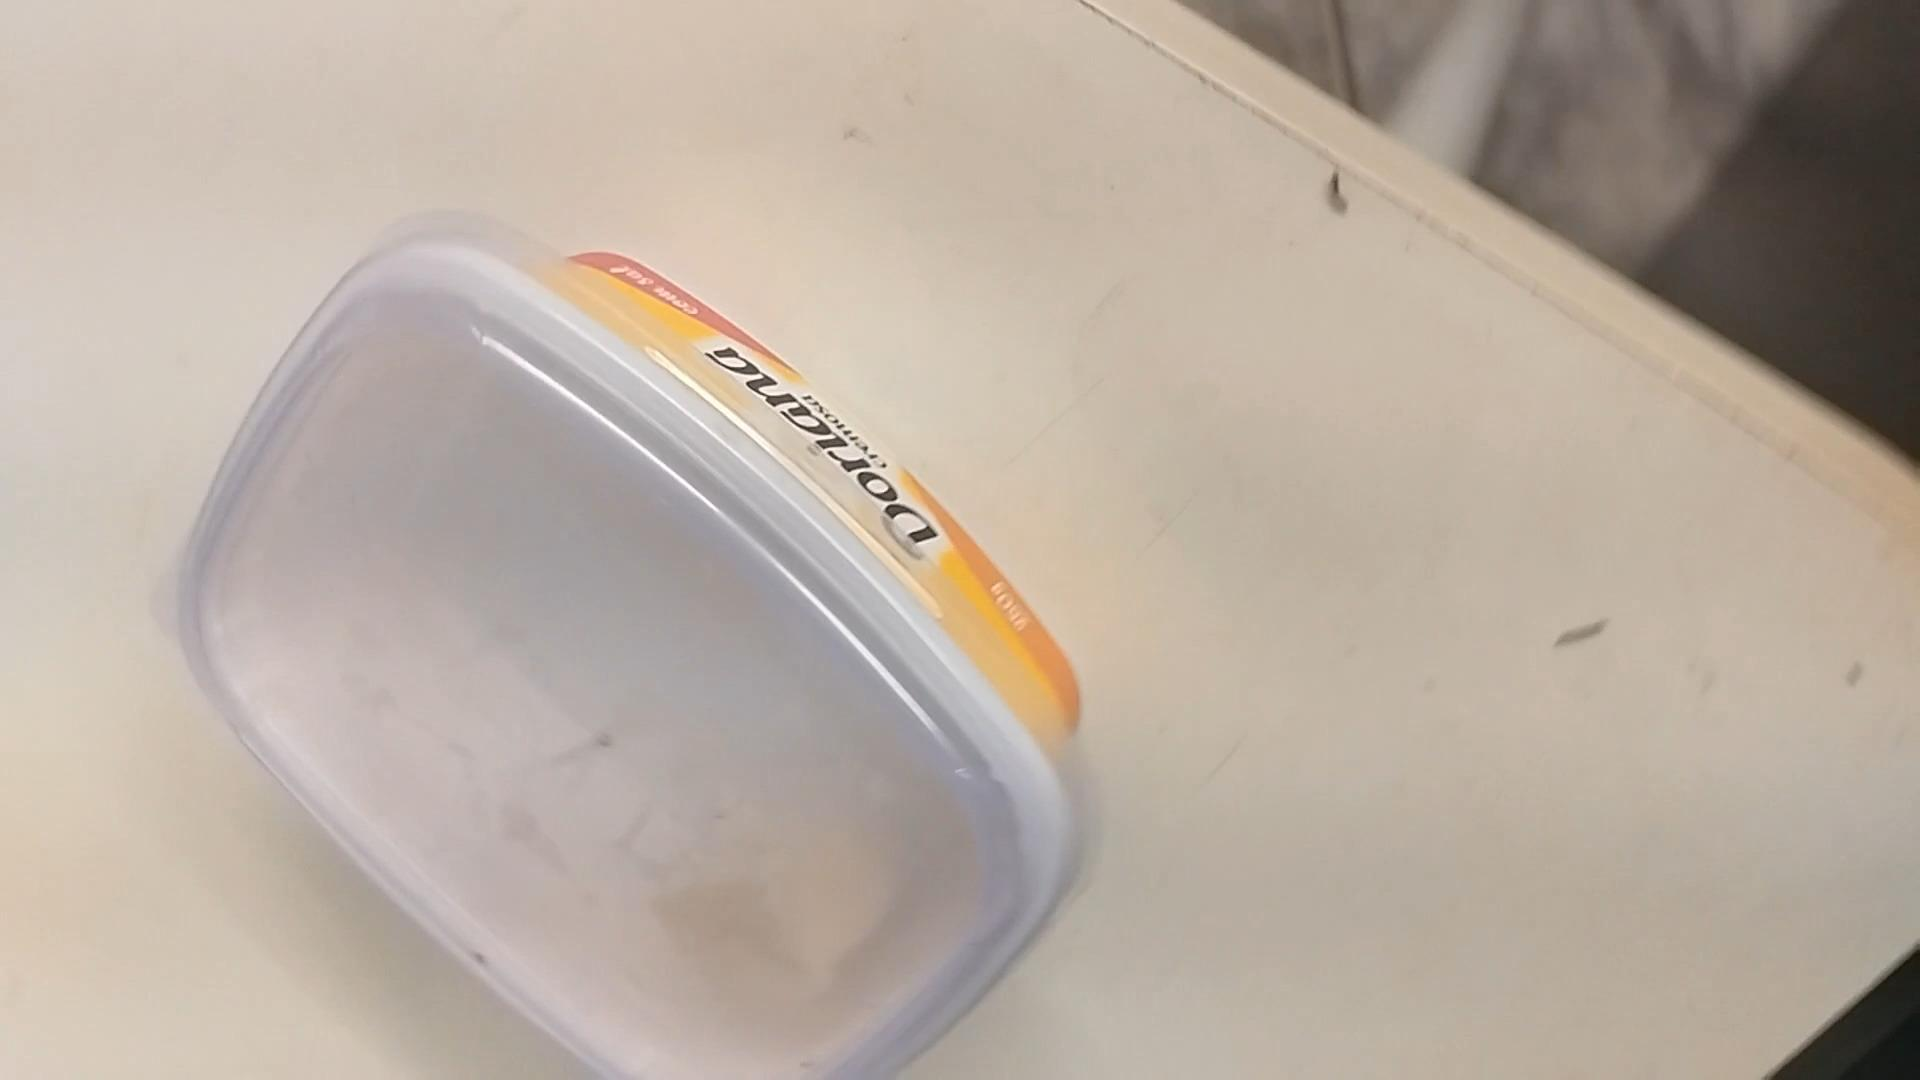butter: (156, 222, 1083, 1079)
